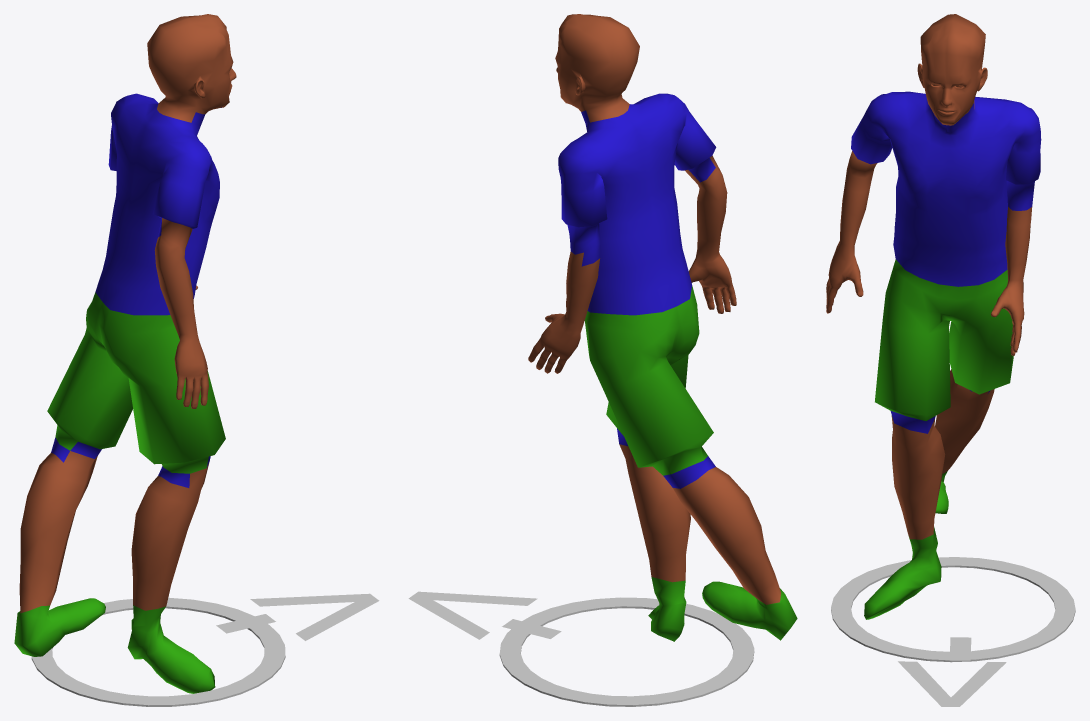
The model's file is playerAI_000022.obj.
3 views of the same model, side by side, from view 1: azimuth 30°, elevation 25°; view 2: azimuth 150°, elevation 25°; view 3: azimuth 270°, elevation 25° (orthographic). The views are drawn at different scales.
Visible parts, largest first — view 1: soccerplayer.003_mesh.002, Circle.001, Text_Mesh; view 2: soccerplayer.003_mesh.002, Circle.001, Text_Mesh; view 3: soccerplayer.003_mesh.002, Circle.001, Text_Mesh.
Boxes of the visible parts, <box> form: soccerplayer.003_mesh.002: <box>14,14,236,693</box>; Circle.001: <box>31,597,285,706</box>; Text_Mesh: <box>216,593,379,640</box>; soccerplayer.003_mesh.002: <box>528,14,797,641</box>; Circle.001: <box>499,597,754,706</box>; Text_Mesh: <box>408,591,561,639</box>; soccerplayer.003_mesh.002: <box>826,14,1041,619</box>; Circle.001: <box>831,557,1075,662</box>; Text_Mesh: <box>898,637,1006,706</box>.
Bounding box in the file's own units: 1.81 × 3 × 1.11.
